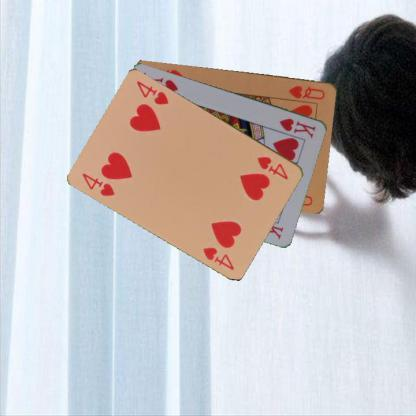4h: (255, 153, 290, 182), (80, 170, 116, 198)
Kh: (276, 115, 318, 140)
Qh: (286, 82, 326, 100)
